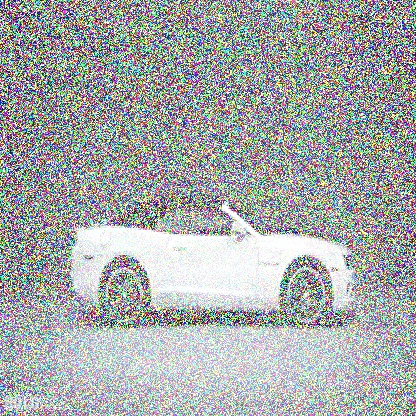Vehicle: (66, 192, 362, 336)
